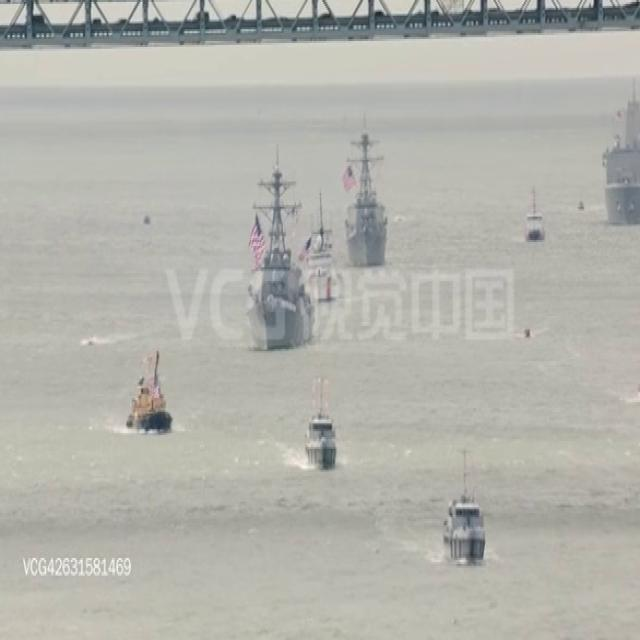houseboat: (444, 446, 485, 564), (120, 350, 173, 441), (306, 202, 340, 297), (305, 376, 340, 468), (522, 183, 546, 244), (85, 330, 94, 350), (142, 212, 152, 225), (524, 328, 533, 339), (577, 201, 584, 210)
navalvessels: (238, 147, 310, 351), (342, 112, 390, 268), (599, 83, 640, 230)
